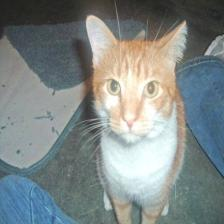cat: (85, 10, 194, 145)
